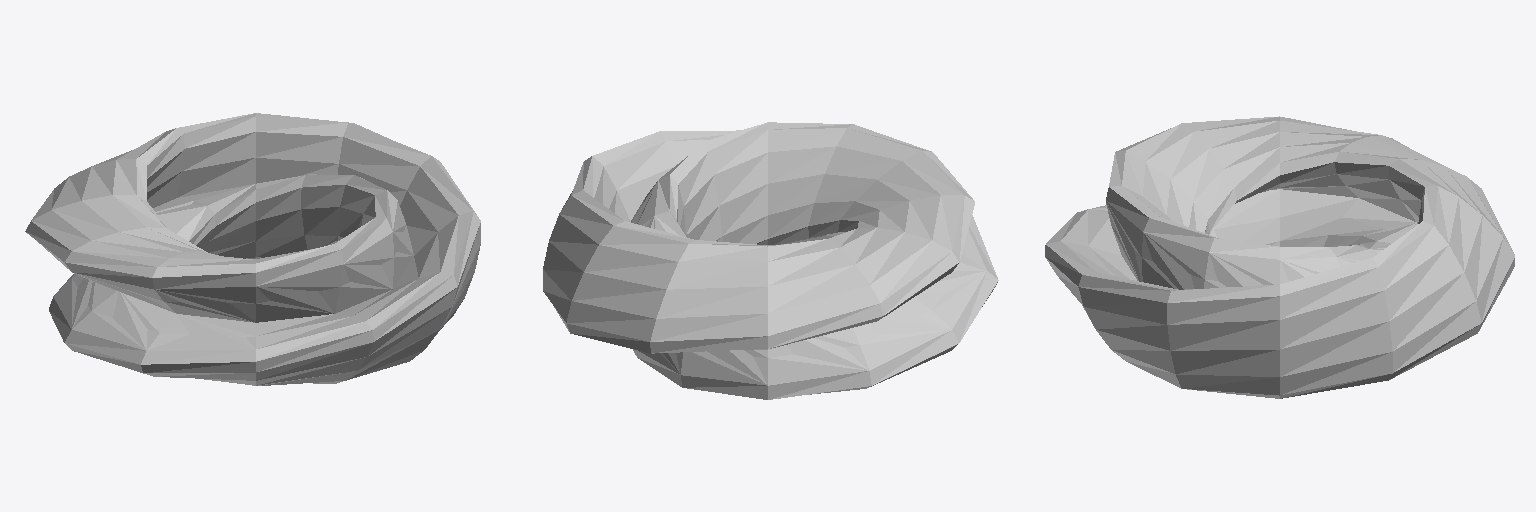
3 renders of one model, left to right at view 1: azimuth 30°, elevation 25°; view 2: azimuth 150°, elevation 25°; view 3: azimuth 270°, elevation 25°, orthographic.
Visible parts, largest first — view 1: XYZ_Function.004, XYZ_Function.005; view 2: XYZ_Function.004, XYZ_Function.005; view 3: XYZ_Function.004, XYZ_Function.005.
Boxes of the visible parts, box(x1,y1,x2,y2) form: XYZ_Function.004: box(25, 113, 480, 385); XYZ_Function.005: box(59, 184, 413, 350); XYZ_Function.004: box(543, 122, 998, 399); XYZ_Function.005: box(631, 181, 986, 385); XYZ_Function.004: box(1045, 116, 1514, 398); XYZ_Function.005: box(1092, 202, 1415, 289).
Size of the model in its own units: 7 by 2.45 by 7.45.